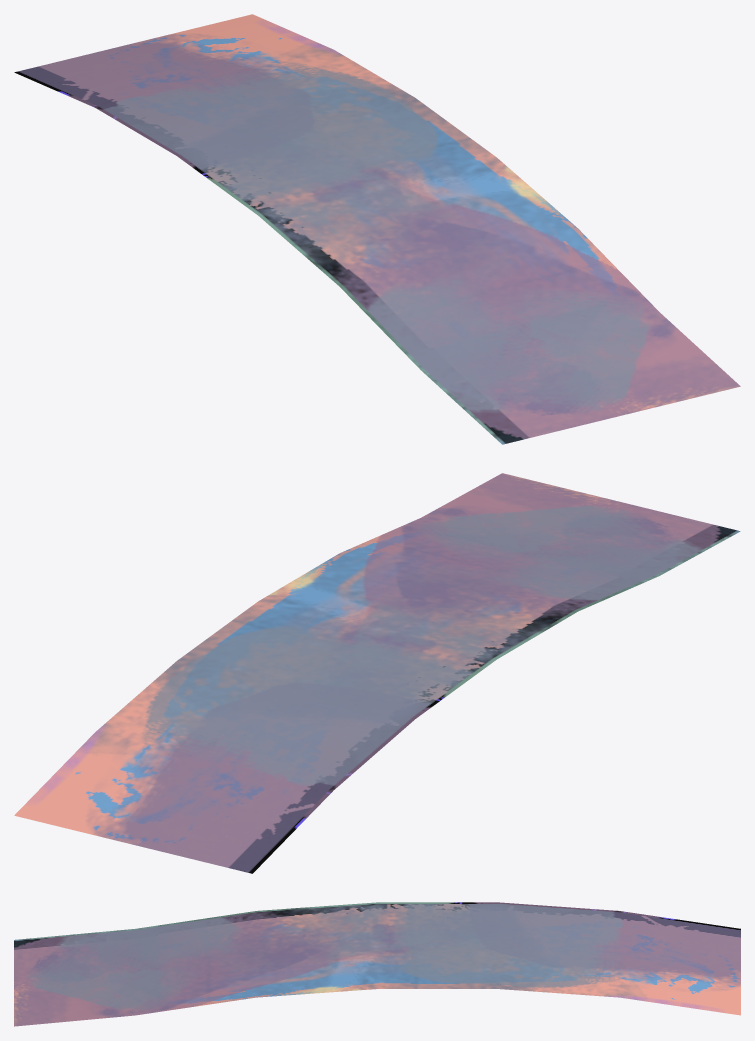
Rendered from S_BrushStroke_PurpleMed.fbx.
3 renders of one model, top to bottom at view 1: azimuth 30°, elevation 25°; view 2: azimuth 150°, elevation 25°; view 3: azimuth 270°, elevation 25°, orthographic. The views are drawn at different scales.
Parts seen in each view (by area): view 1: S_BrushStroke_PurpleMed; view 2: S_BrushStroke_PurpleMed; view 3: S_BrushStroke_PurpleMed.
Boxes of the visible parts, left/top/right/bottom form: S_BrushStroke_PurpleMed: left=14, top=14, right=740, bottom=444; S_BrushStroke_PurpleMed: left=14, top=473, right=740, bottom=873; S_BrushStroke_PurpleMed: left=14, top=902, right=740, bottom=1026.
Bounding box in the file's own units: 0.8197 × 0.1655 × 2.91.
